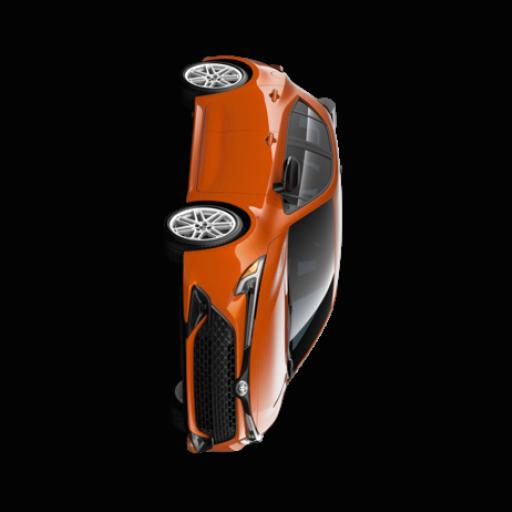hatchback: (164, 57, 341, 453)
